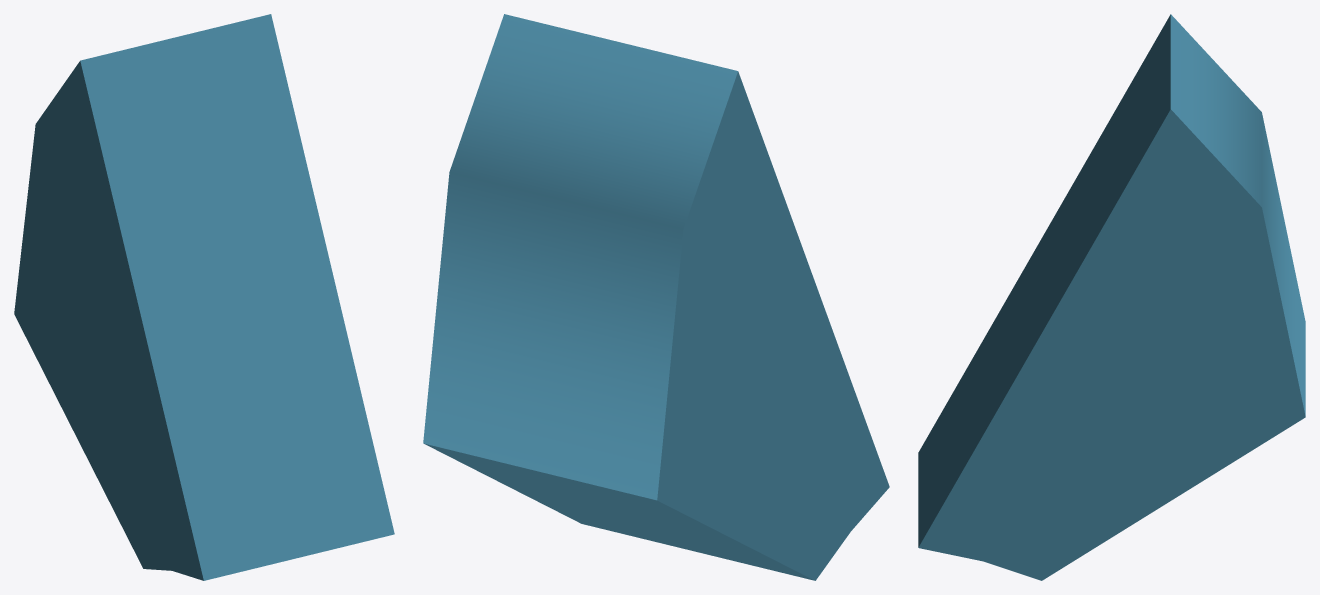
The model's file is NexusC_Trigger_15.fbx.
The picture shows the model from 3 angles, left to right: view 1: azimuth 30°, elevation 25°; view 2: azimuth 150°, elevation 25°; view 3: azimuth 270°, elevation 25°; orthographic projection. The views are drawn at different scales.
Parts seen in each view (by area): view 1: polySurface56; view 2: polySurface56; view 3: polySurface56.
Boxes of the visible parts, x1,y1,x2,y2 form: polySurface56: [14, 14, 394, 580]; polySurface56: [423, 14, 889, 580]; polySurface56: [918, 14, 1305, 580].
Size of the model in its own units: 12.85 by 29.73 by 22.13.
